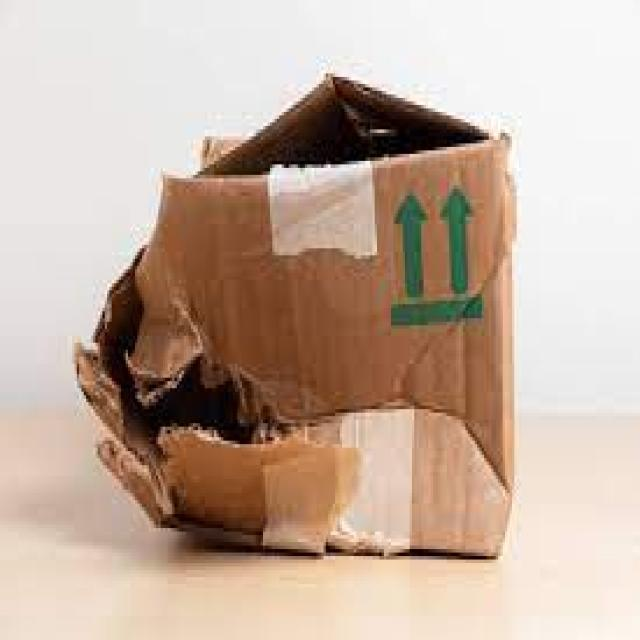Kardus kondisi rusak: (72, 77, 516, 560)
